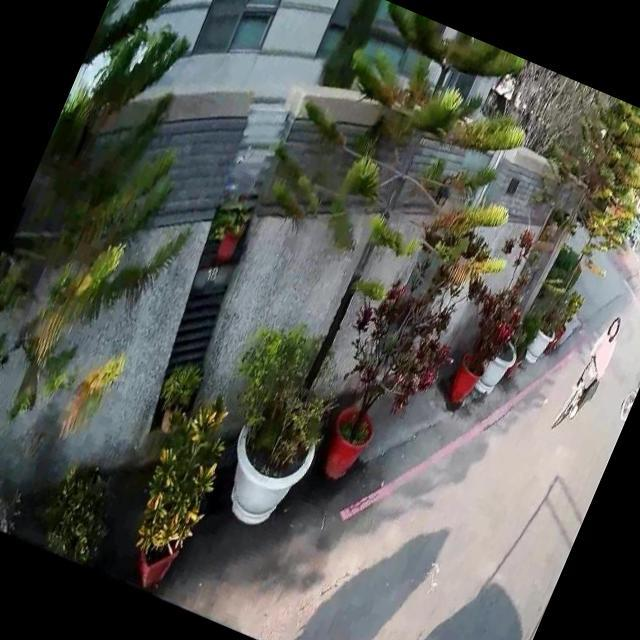person: (560, 307, 628, 424)
